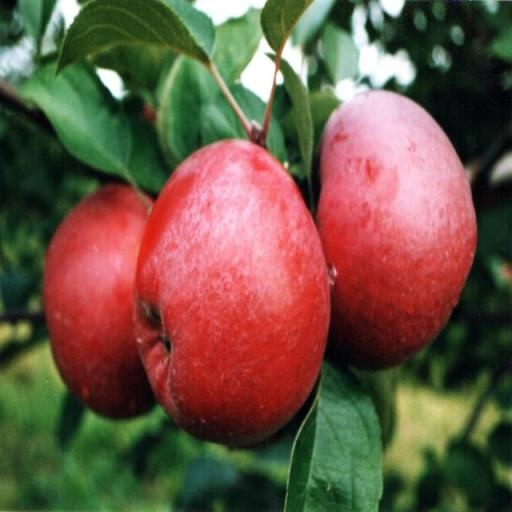fruit: (135, 140, 329, 445), (317, 92, 475, 368), (44, 185, 153, 417)
